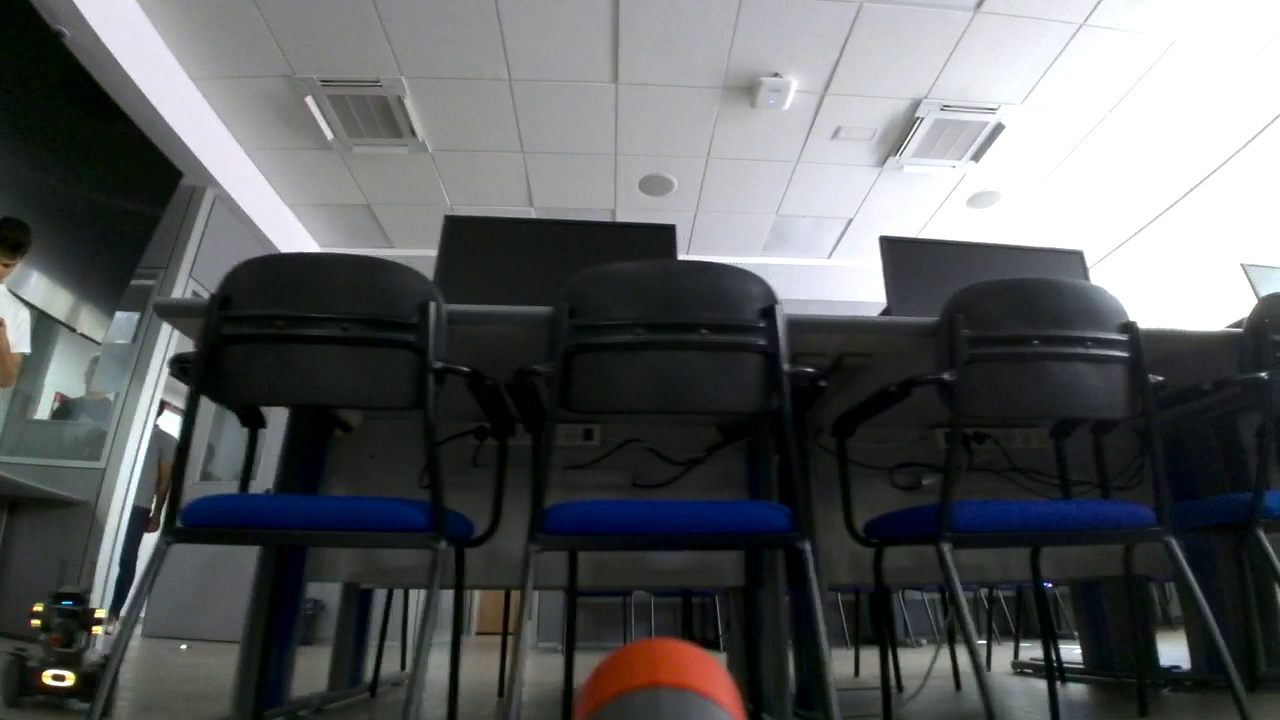robot: (5, 560, 116, 715)
